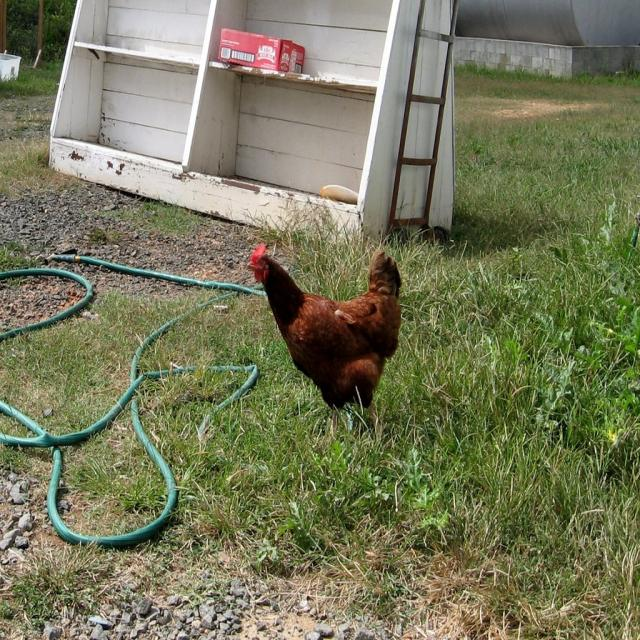Chicken: (246, 243, 402, 431)
